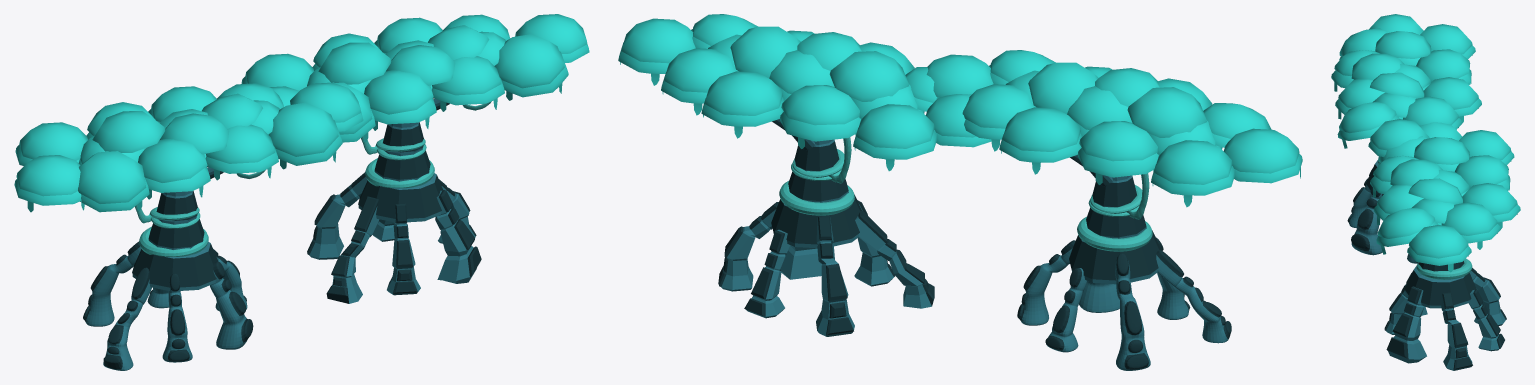
Rendered from arbre2Fantasy.fbx.
3 renders of one model, left to right at view 1: azimuth 30°, elevation 25°; view 2: azimuth 150°, elevation 25°; view 3: azimuth 270°, elevation 25°, orthographic. The views are drawn at different scales.
Parts seen in each view (by area): view 1: ArbreFantasyJap2, HautMoussePlat, Cube.015, Branches hautes, Torus.004; view 2: ArbreFantasyJap2, HautMoussePlat, Cube.015, Branches hautes, Torus.004; view 3: ArbreFantasyJap2, HautMoussePlat, Cube.015.
Part boxes in pixels (left/top/right/bottom): ArbreFantasyJap2: left=241, top=14, right=589, bottom=303; HautMoussePlat: left=14, top=82, right=363, bottom=212; Cube.015: left=83, top=241, right=253, bottom=370; Branches hautes: left=132, top=167, right=223, bottom=290; Torus.004: left=135, top=170, right=265, bottom=256; ArbreFantasyJap2: left=618, top=14, right=991, bottom=336; HautMoussePlat: left=926, top=50, right=1302, bottom=207; Cube.015: left=1017, top=237, right=1231, bottom=370; Branches hautes: left=1069, top=155, right=1161, bottom=284; Torus.004: left=1077, top=173, right=1152, bottom=251; ArbreFantasyJap2: left=1370, top=122, right=1520, bottom=370; HautMoussePlat: left=1331, top=14, right=1481, bottom=156; Cube.015: left=1347, top=168, right=1417, bottom=263.
Size of the model in its own units: 3084 by 1200 by 1065.
